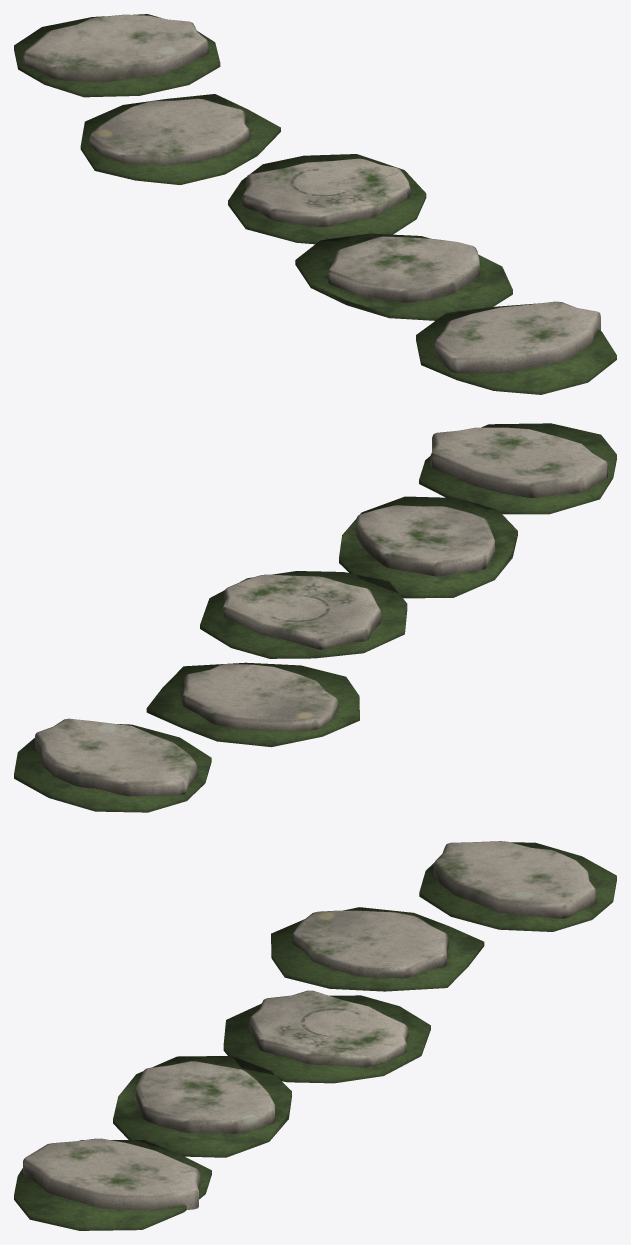
Rendered from SteppingStones.fbx.
The picture shows the model from 3 angles, top to bottom: view 1: azimuth 30°, elevation 25°; view 2: azimuth 150°, elevation 25°; view 3: azimuth 330°, elevation 25°; orthographic projection. The views are drawn at different scales.
Visible parts, largest first — view 1: SteppingStones; view 2: SteppingStones; view 3: SteppingStones.
Part boxes in pixels (box(x1,y1,x2,y2)): SteppingStones: box(14, 14, 616, 394); SteppingStones: box(14, 423, 616, 812); SteppingStones: box(14, 841, 616, 1230).
Bounding box in the file's own units: 265 × 21.3 × 997.
